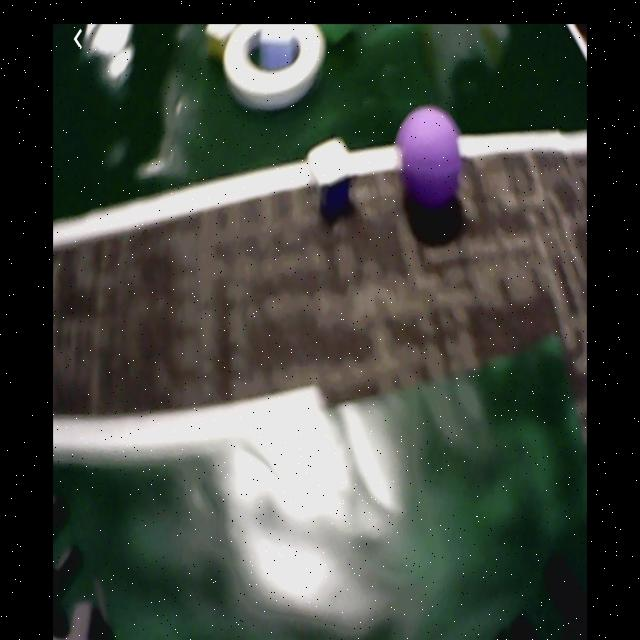ball: (399, 105, 460, 202)
